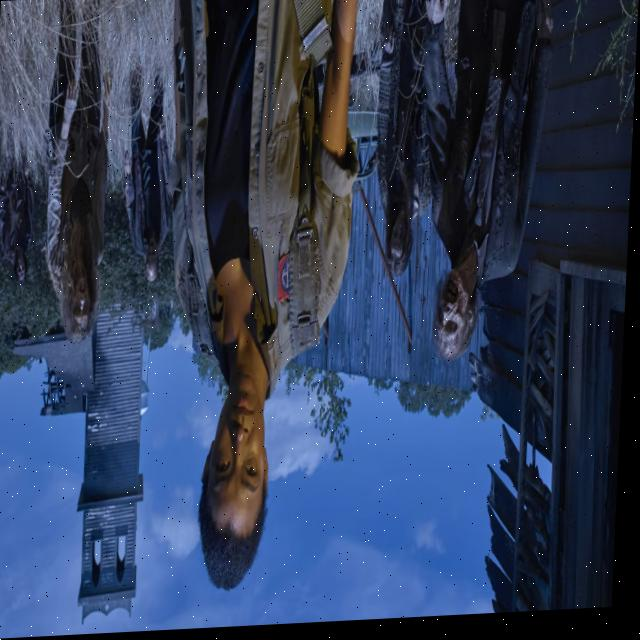Zombie: (436, 271, 471, 364), (71, 270, 97, 330), (391, 209, 411, 270), (147, 237, 162, 279), (15, 247, 30, 282)
human: (202, 364, 277, 585)
